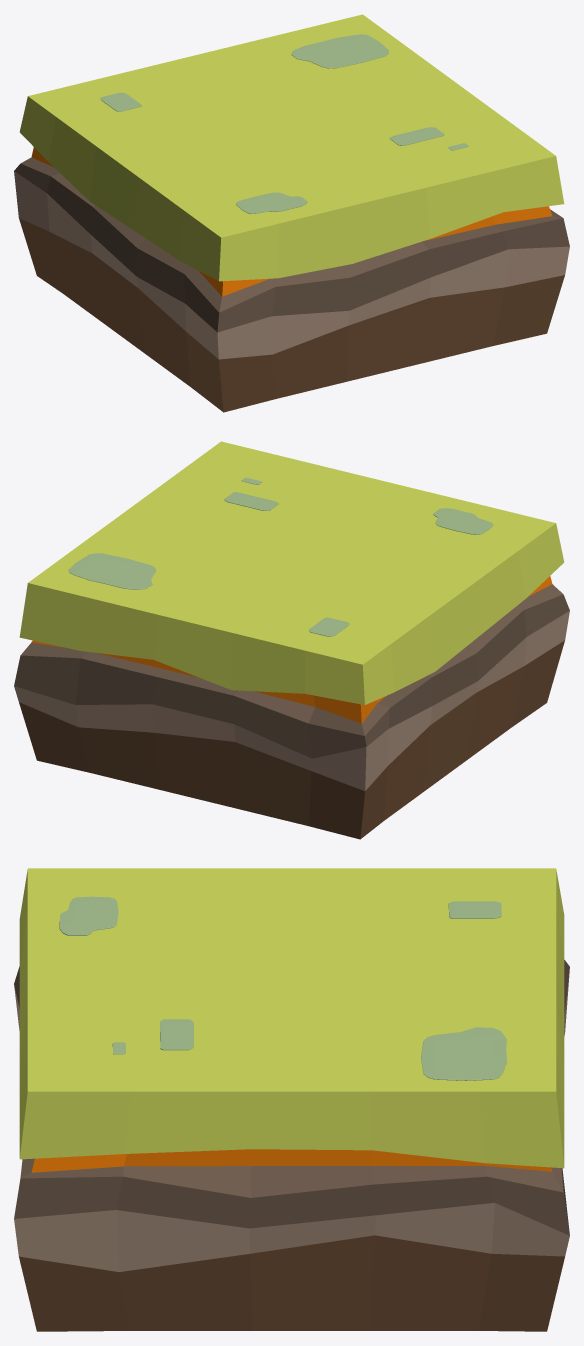
Rendered from Isl_12_Base.fbx.
3 renders of one model, top to bottom at view 1: azimuth 30°, elevation 25°; view 2: azimuth 150°, elevation 25°; view 3: azimuth 270°, elevation 25°, orthographic. The views are drawn at different scales.
Visible parts, largest first — view 1: Isl_12_Base; view 2: Isl_12_Base; view 3: Isl_12_Base.
Boxes of the visible parts, x1,y1,x2,y2 form: Isl_12_Base: (14, 14, 569, 412); Isl_12_Base: (14, 441, 569, 839); Isl_12_Base: (14, 868, 569, 1331).
Size of the model in its own units: 2105 by 2105 by 1023.
Materials: 1 (1 with a texture image).
